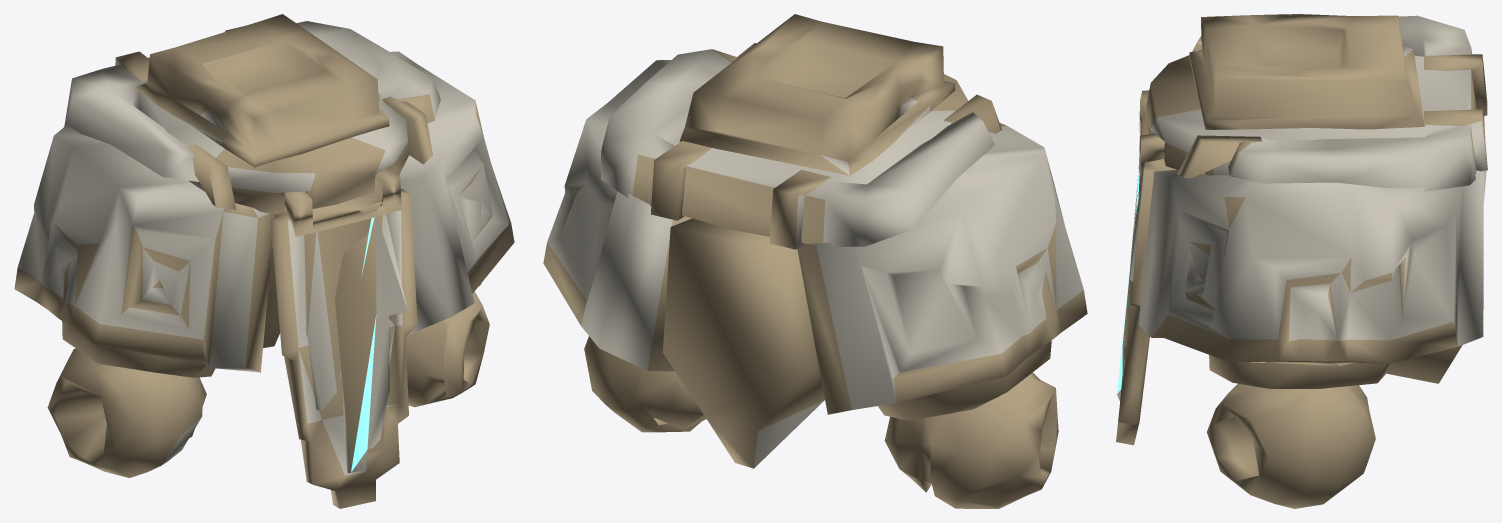
Rendered from BossHip.glb.
3 views of the same model, side by side, from view 1: azimuth 30°, elevation 25°; view 2: azimuth 150°, elevation 25°; view 3: azimuth 270°, elevation 25° (orthographic). The views are drawn at different scales.
Visible parts, largest first — view 1: PART_BossHip.004; view 2: PART_BossHip.004; view 3: PART_BossHip.004.
Part boxes in pixels (x1=…): PART_BossHip.004: x1=14, y1=14, x2=514, y2=508; PART_BossHip.004: x1=543, y1=14, x2=1087, y2=508; PART_BossHip.004: x1=1116, y1=14, x2=1487, y2=508.
Bounding box in the file's own units: 1.59 × 1.35 × 1.16.
